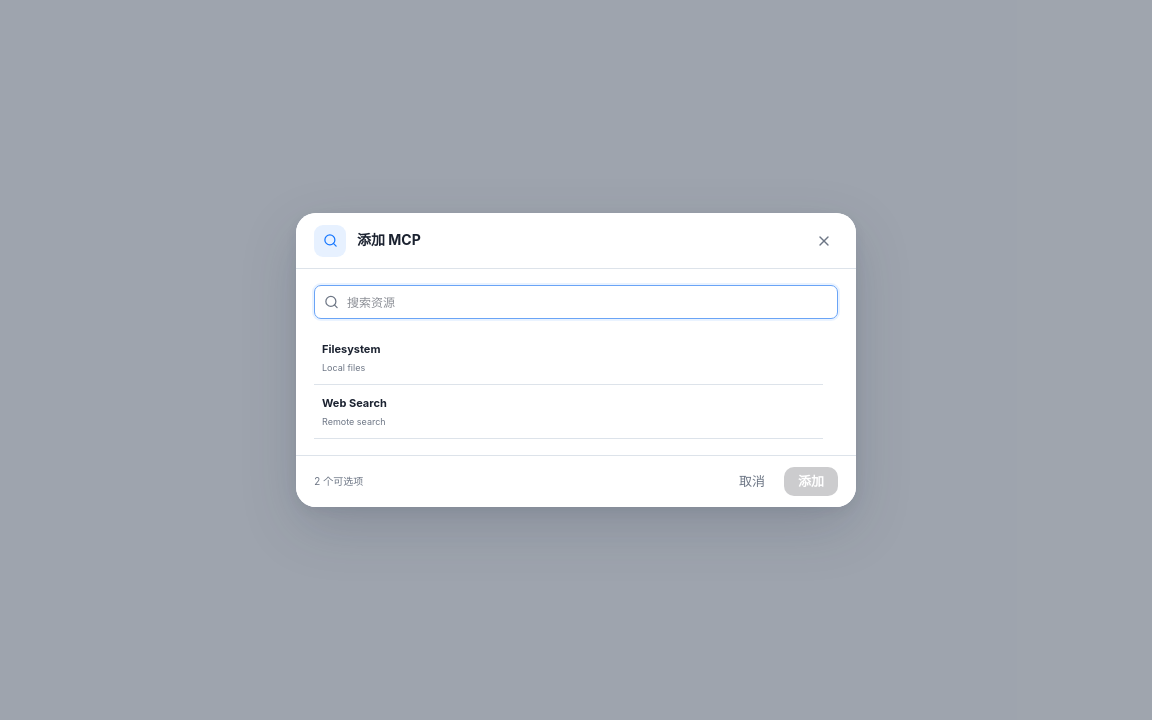
it: ResourcePickerDialog › shows a no-match state and result count
Check: the text "2 个可选项" is shown, box [314,474,363,489]
Type "missing" into the search field at (576, 302), box [314,285,838,319]
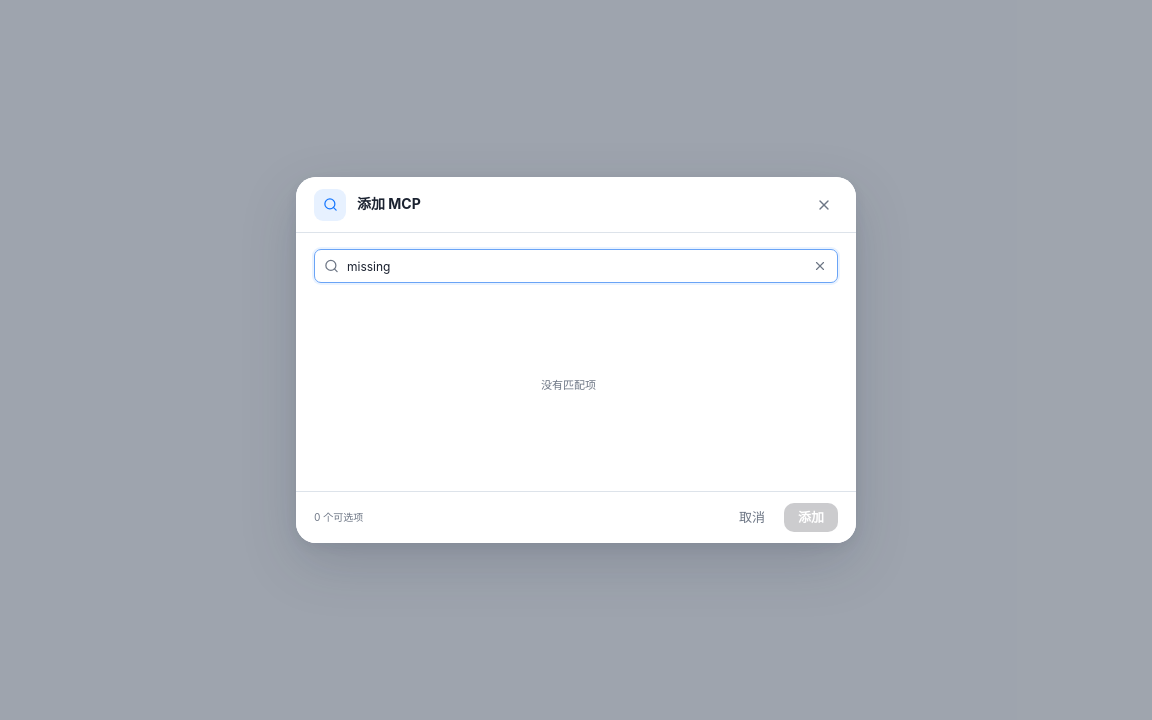
Check: the text "没有匹配项" is shown, box [541,378,596,392]
Check: the text "0 个可选项" is shown, box [314,510,363,525]
